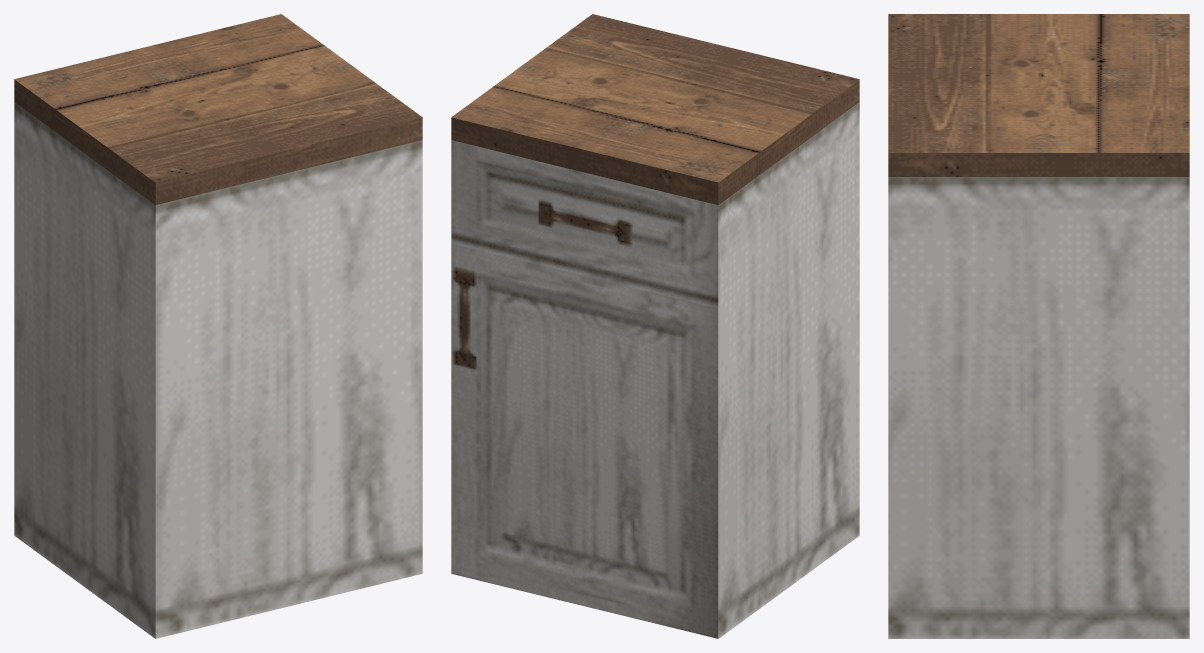
File: Cupboard.fbx
3 renders of one model, left to right at view 1: azimuth 30°, elevation 25°; view 2: azimuth 150°, elevation 25°; view 3: azimuth 270°, elevation 25°, orthographic. The views are drawn at different scales.
Parts seen in each view (by area): view 1: Cube.011; view 2: Cube.011; view 3: Cube.011.
Part boxes in pixels (x1,y1,x2,y2): Cube.011: (14, 14, 422, 638); Cube.011: (451, 14, 859, 638); Cube.011: (888, 14, 1189, 638).
Size of the model in its own units: 168 by 274 by 154.
